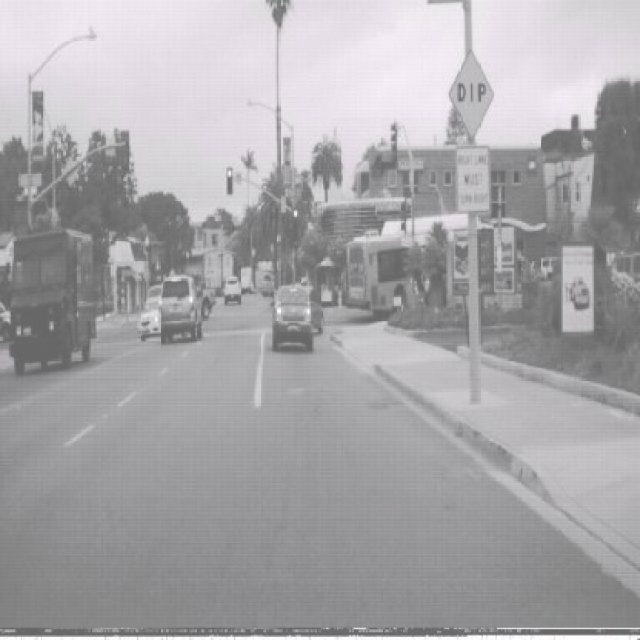dip: (450, 48, 496, 140)
